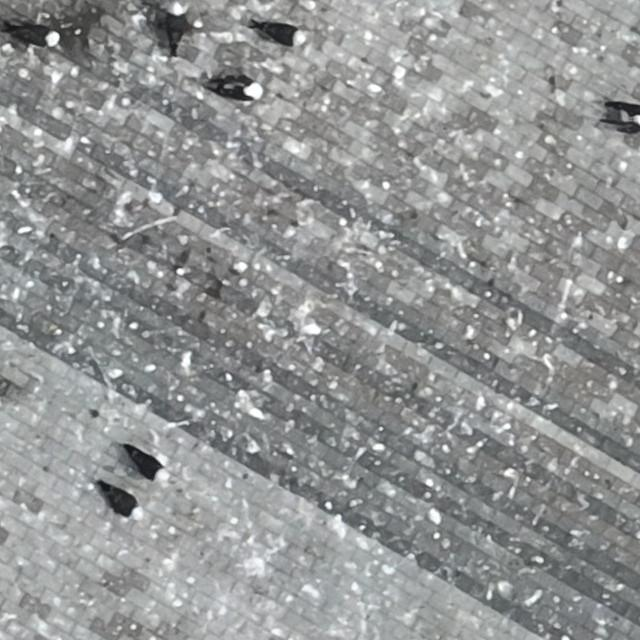umineko: (130, 447, 170, 483), (253, 21, 304, 44), (12, 24, 60, 46), (215, 80, 261, 100), (110, 492, 142, 519), (168, 2, 185, 51), (604, 106, 640, 124)
